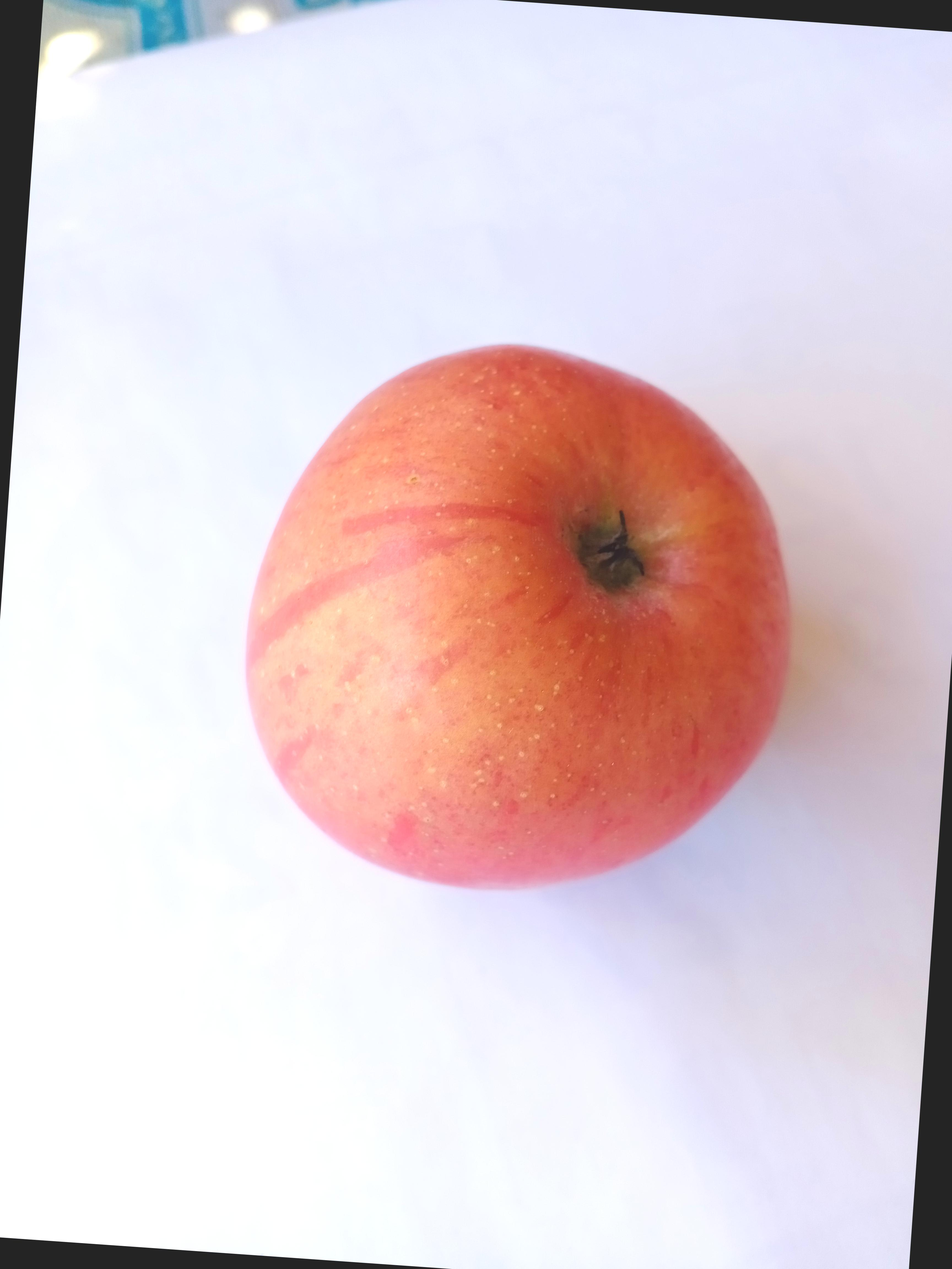Apple Ripe: (279, 256, 880, 883)
